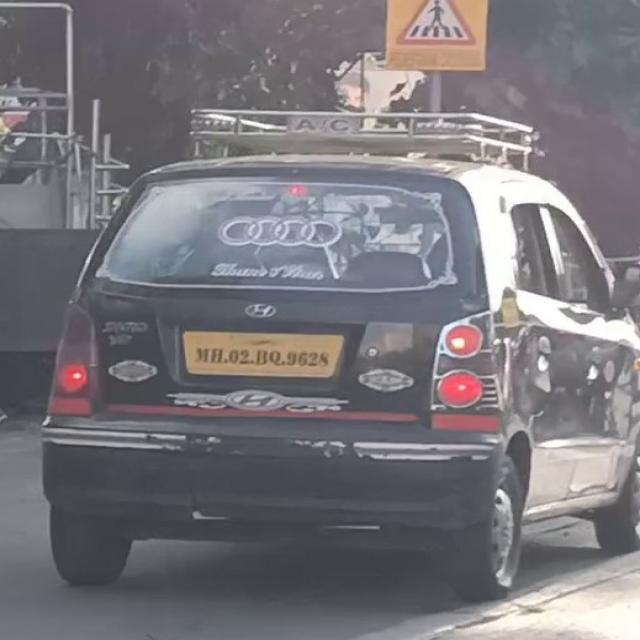license-plate: (180, 329, 343, 376)
